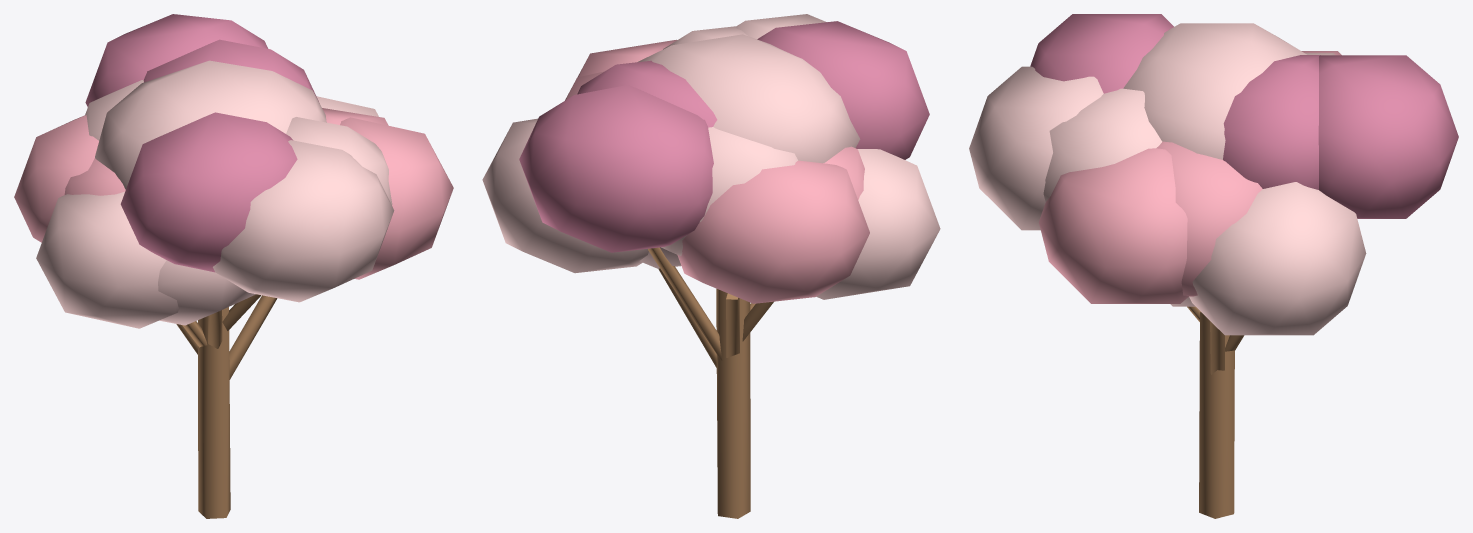
Rendered from blossom-tree-lod1.glb.
3 views of the same model, side by side, from view 1: azimuth 30°, elevation 25°; view 2: azimuth 150°, elevation 25°; view 3: azimuth 270°, elevation 25° (orthographic). The views are drawn at different scales.
Visible parts, largest first — view 1: blossom-tree-lod1; view 2: blossom-tree-lod1; view 3: blossom-tree-lod1.
Boxes of the visible parts, x1=… form: blossom-tree-lod1: x1=14, y1=14, x2=453, y2=518; blossom-tree-lod1: x1=482, y1=14, x2=940, y2=518; blossom-tree-lod1: x1=969, y1=14, x2=1458, y2=518.
Size of the model in its own units: 4.71 by 5.28 by 4.94.
